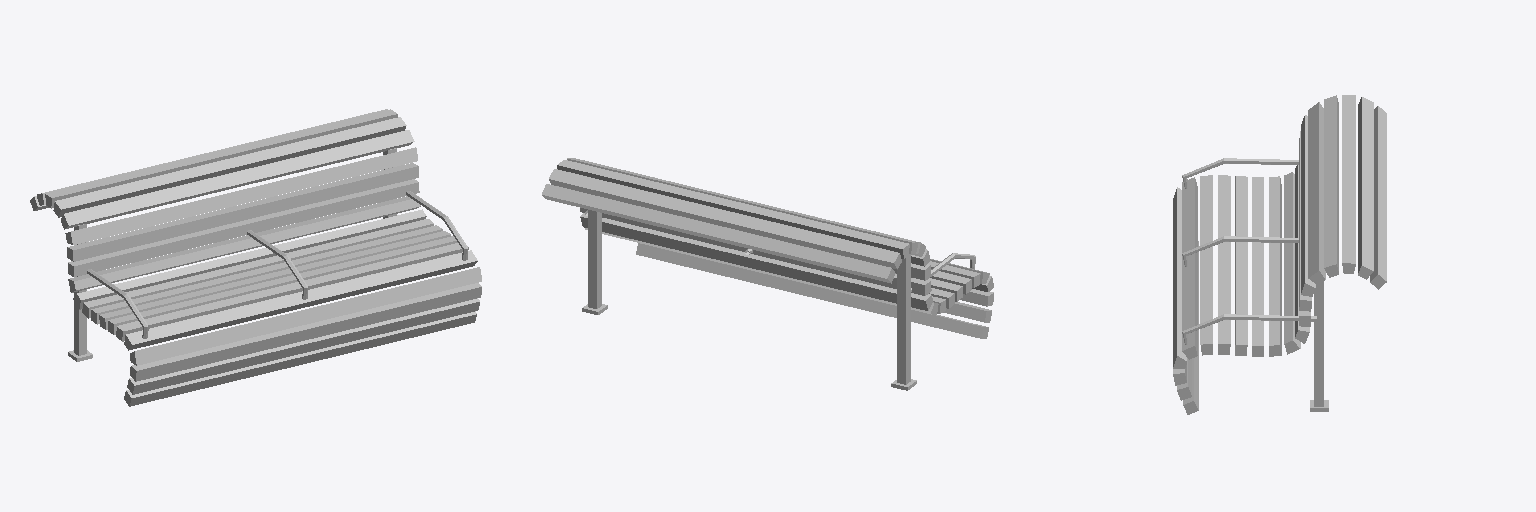
File: bänk.obj
The picture shows the model from 3 angles: view 1: azimuth 30°, elevation 25°; view 2: azimuth 150°, elevation 25°; view 3: azimuth 270°, elevation 25°; orthographic projection.
Visible parts, largest first — view 1: NurbsPath.001; view 2: NurbsPath.001; view 3: NurbsPath.001.
Part boxes in pixels (left/top/right/bottom): NurbsPath.001: left=30, top=109, right=481, bottom=406; NurbsPath.001: left=542, top=158, right=993, bottom=390; NurbsPath.001: left=1173, top=95, right=1386, bottom=414.
Size of the model in its own units: 1.97 by 0.8417 by 1.06.